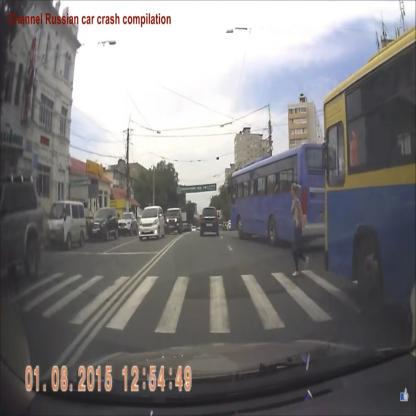crosswalk: (14, 269, 373, 333)
